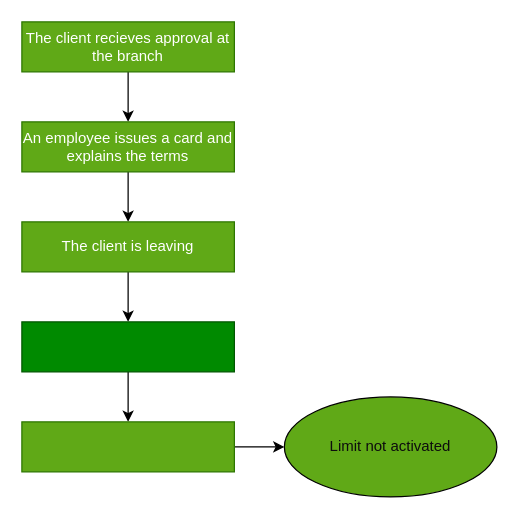
Some shapes in this 519 by 519 pixel diagram are drawn without their labels. Each missing label, with the centre of its shape:
"No reminders" belongs at point 127,346.
"The client forgets about the limit" belongs at point 127,446.
